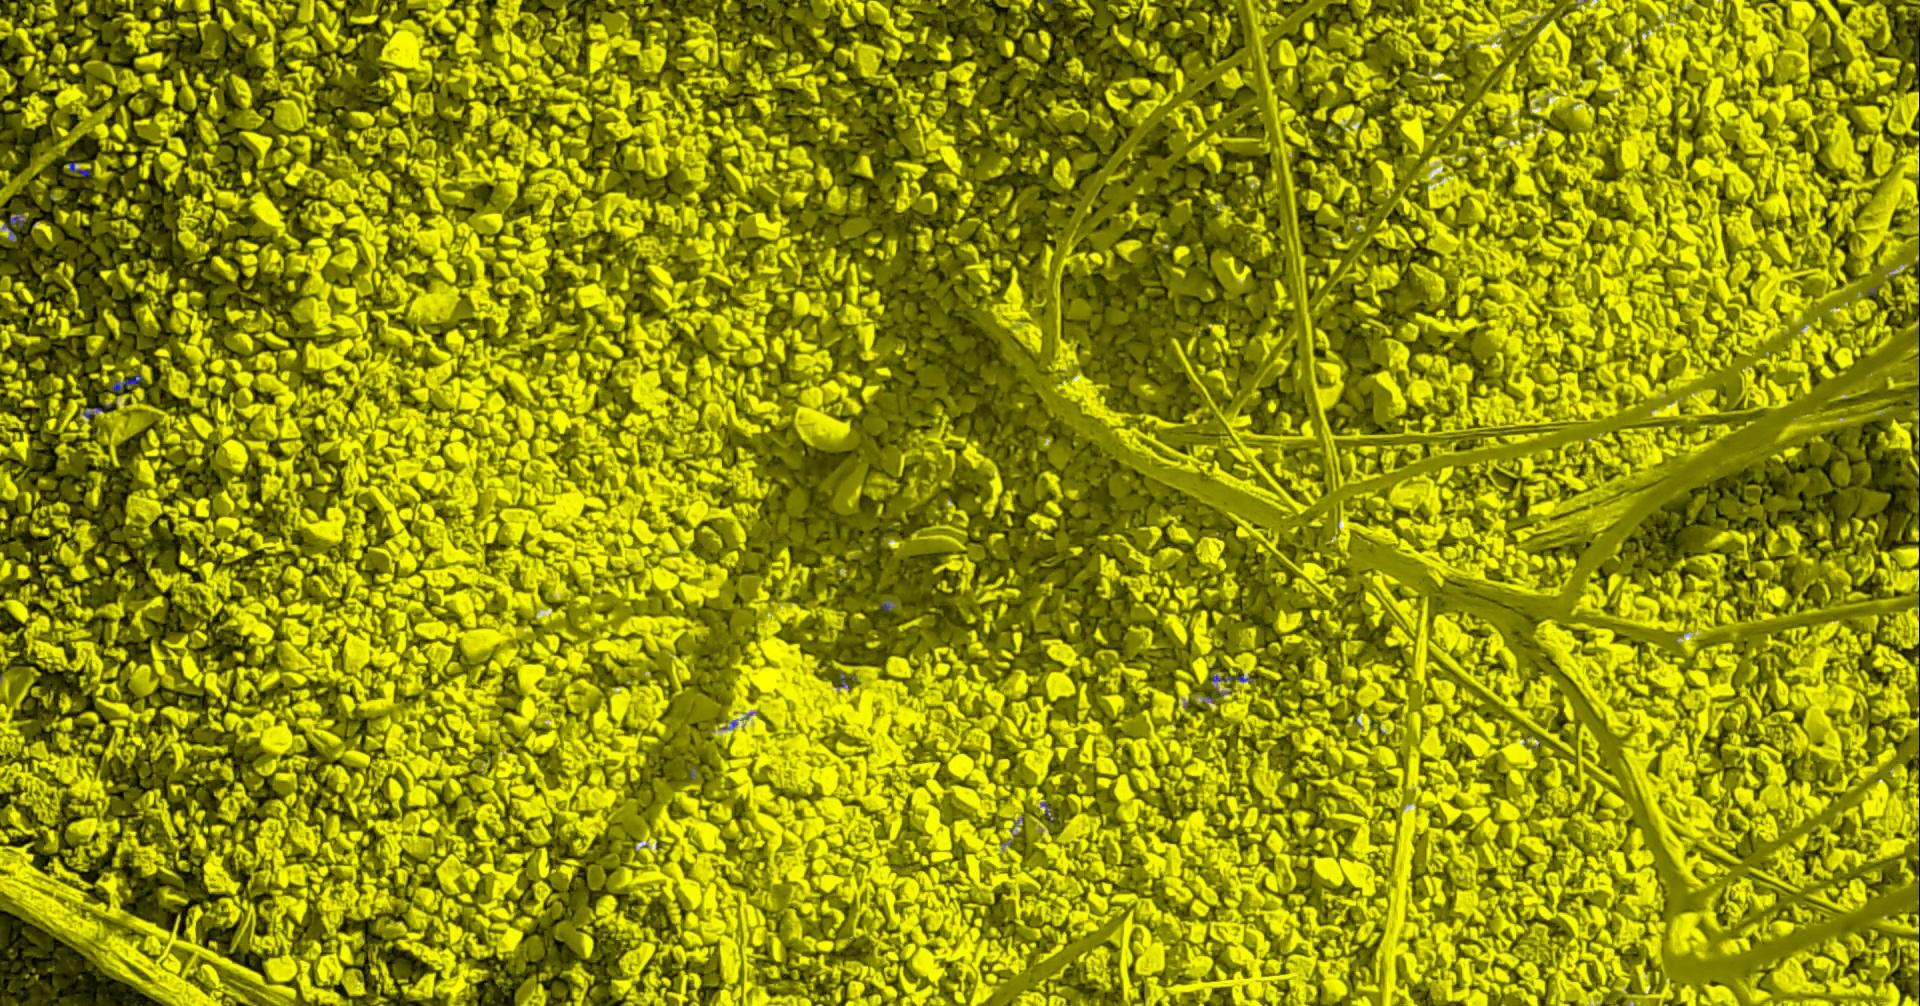ant: (110, 373, 142, 392), (3, 213, 25, 235), (69, 161, 90, 177), (1211, 673, 1250, 681)
